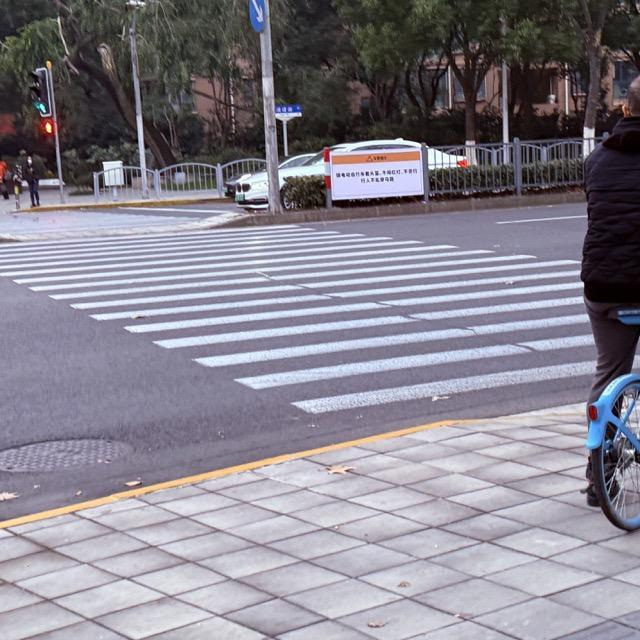curb: (0, 419, 489, 528), (211, 190, 582, 225), (11, 195, 226, 211)
